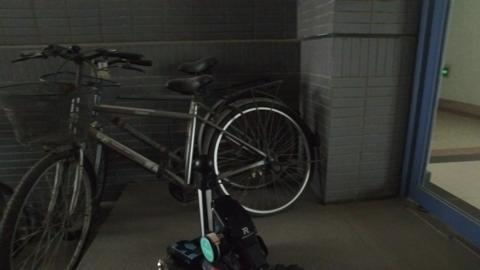bike: (1, 40, 314, 269)
chariot: (157, 155, 284, 270)
